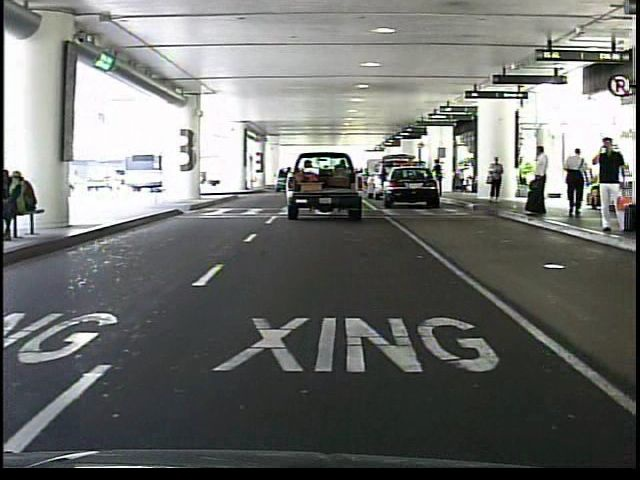person: (592, 137, 632, 240), (562, 144, 590, 219), (525, 144, 552, 221), (485, 156, 508, 208), (432, 159, 444, 190)
